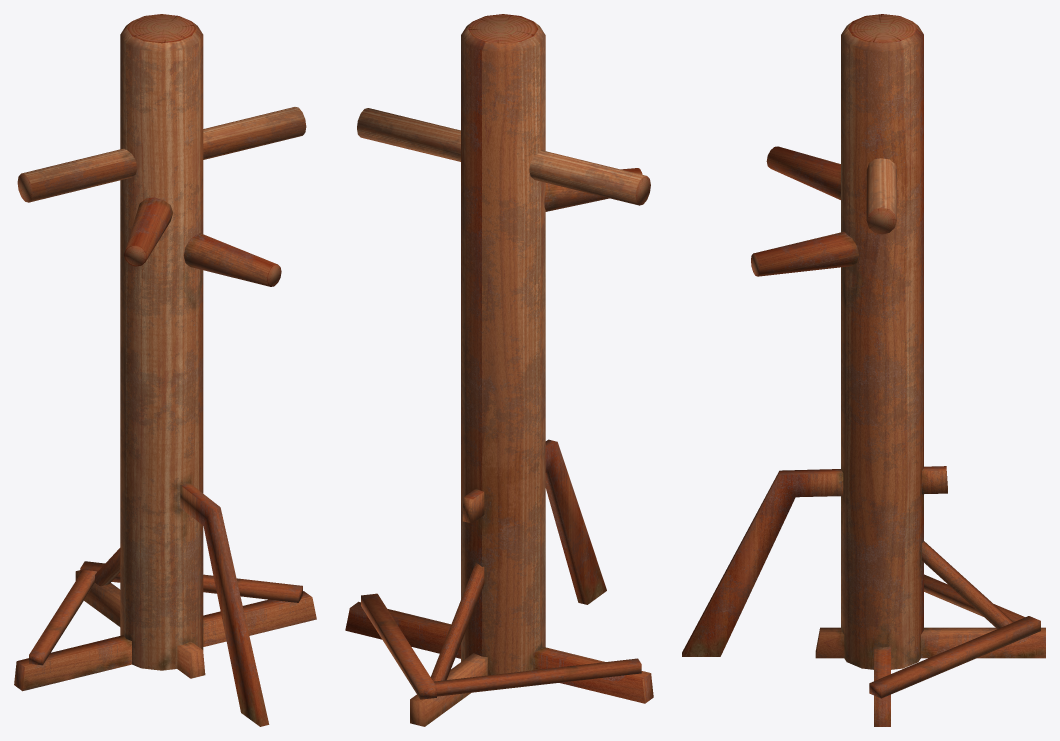
Rendered from Muzhuang_1.FBX.
3 renders of one model, left to right at view 1: azimuth 30°, elevation 25°; view 2: azimuth 150°, elevation 25°; view 3: azimuth 270°, elevation 25°, orthographic.
Parts seen in each view (by area): view 1: Muzhuang_1; view 2: Muzhuang_1; view 3: Muzhuang_1.
Boxes of the visible parts, <box> form: Muzhuang_1: <box>14,14,316,726</box>; Muzhuang_1: <box>345,14,653,726</box>; Muzhuang_1: <box>682,14,1045,726</box>.
Size of the model in its own units: 34.79 by 70.52 by 37.22.
